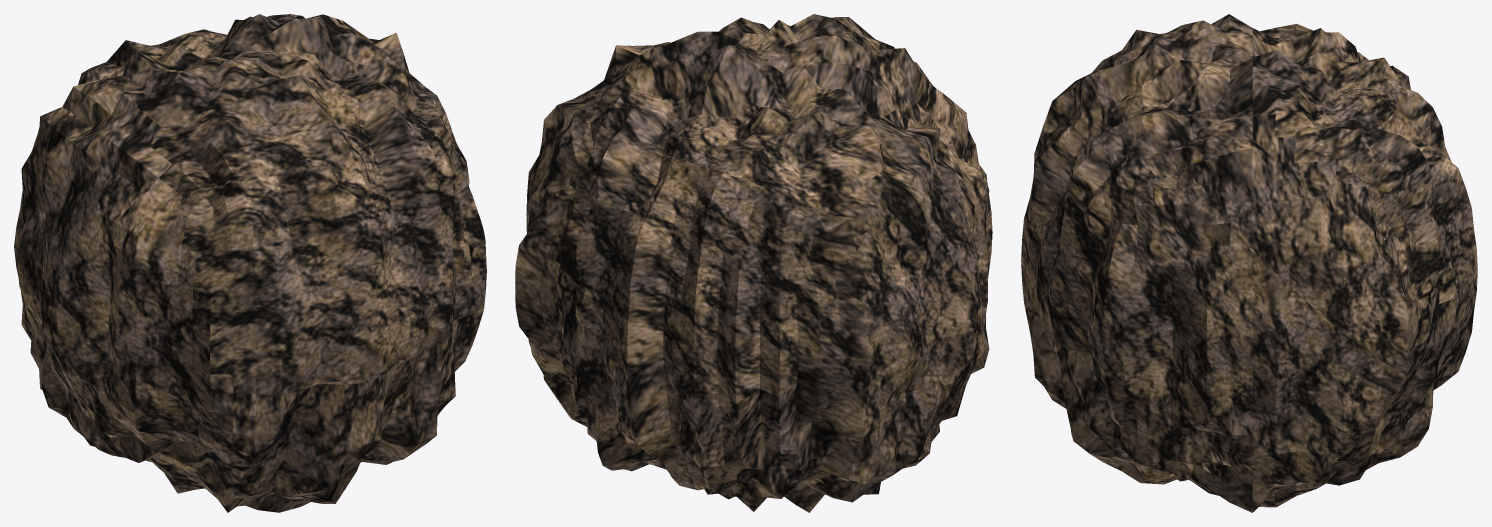
File: asteroid92.obj
3 renders of one model, left to right at view 1: azimuth 30°, elevation 25°; view 2: azimuth 150°, elevation 25°; view 3: azimuth 270°, elevation 25°, orthographic. The views are drawn at different scales.
Parts seen in each view (by area): view 1: Cube_Cube.002; view 2: Cube_Cube.002; view 3: Cube_Cube.002.
Boxes of the visible parts, <box> form: Cube_Cube.002: <box>14,14,486,512</box>; Cube_Cube.002: <box>515,14,992,512</box>; Cube_Cube.002: <box>1021,14,1477,512</box>.
Size of the model in its own units: 1.78 by 1.81 by 1.7.
